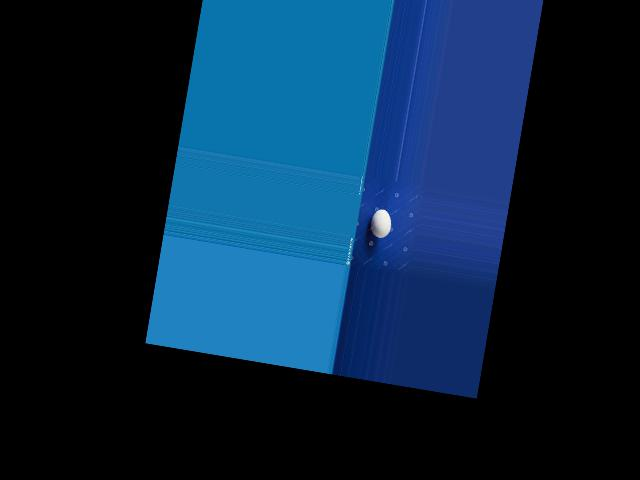egg: (368, 207, 393, 239)
